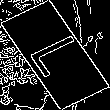L_NE: (19, 29, 91, 81)
